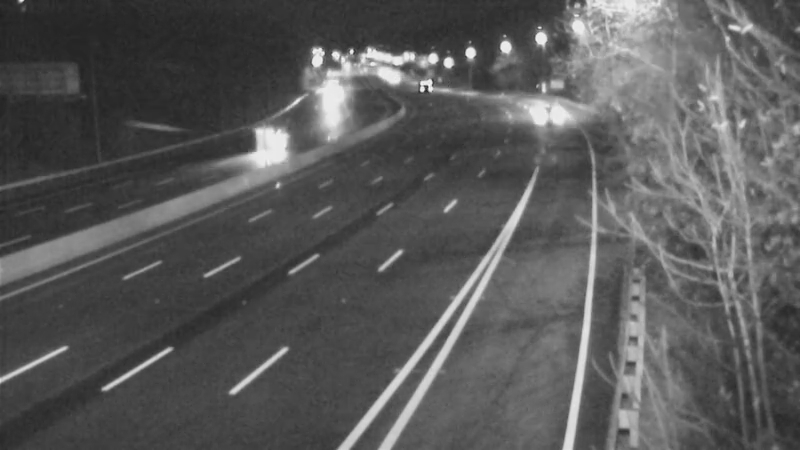vehicle: (396, 59, 446, 109), (364, 52, 414, 102), (508, 89, 558, 139), (244, 119, 294, 169)
